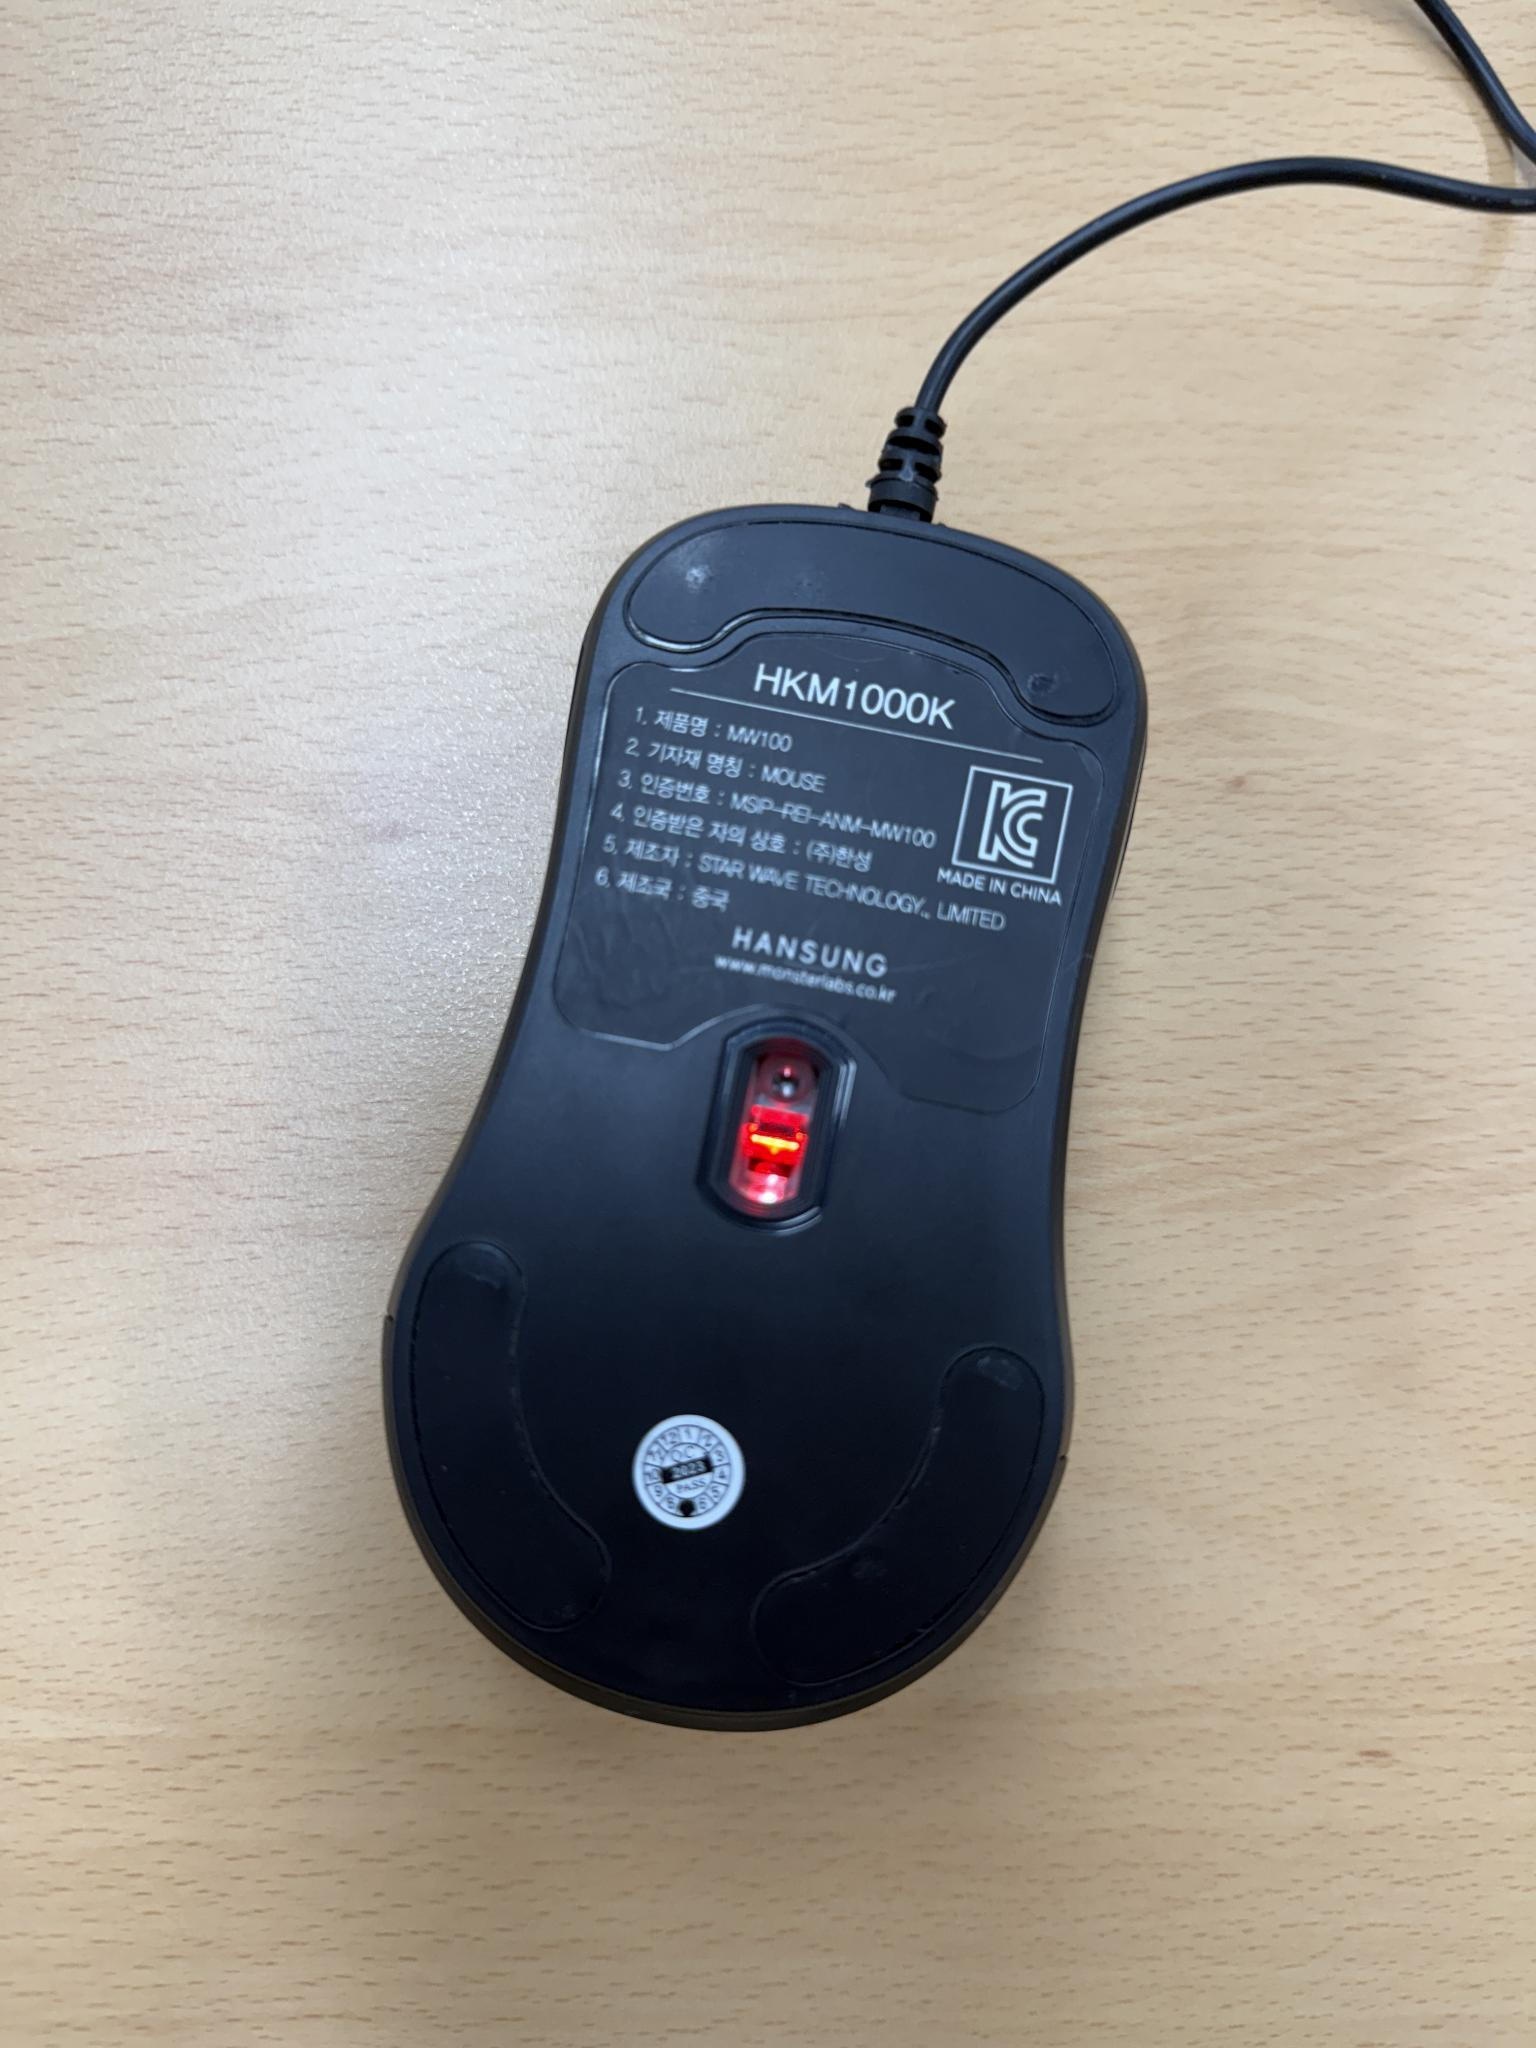back: (371, 498, 1150, 1745)
